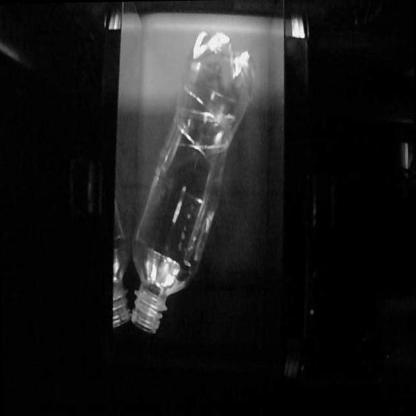Plastic Bottle: (131, 31, 251, 333)
